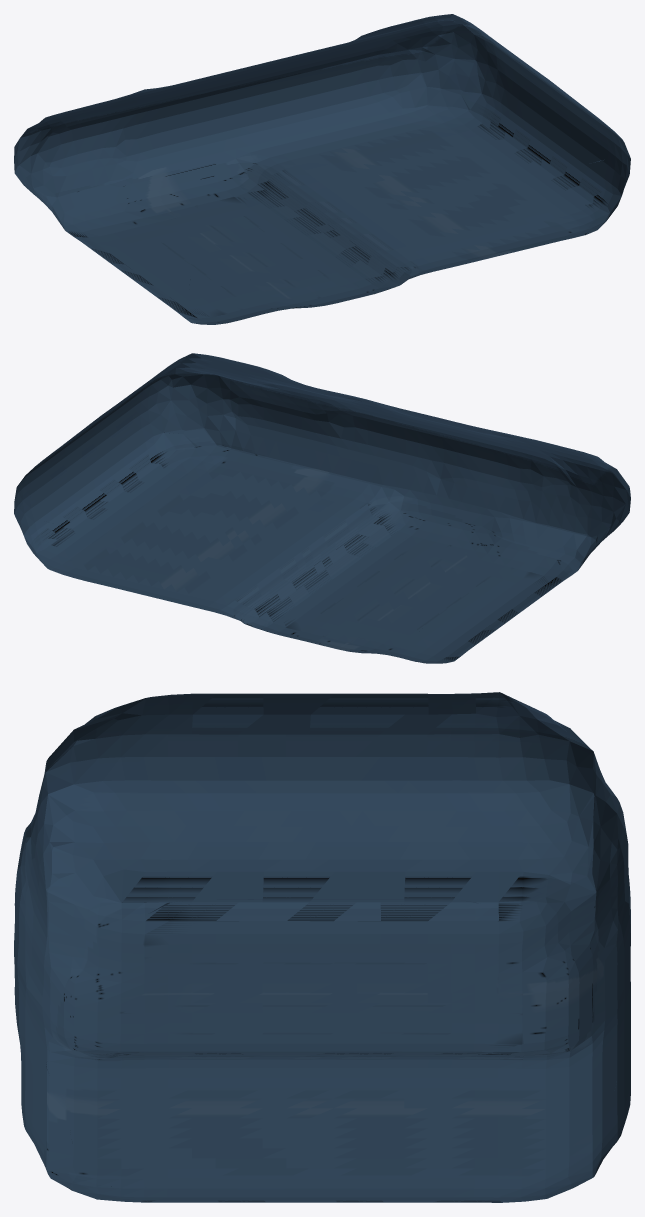
3 renders of one model, top to bottom at view 1: azimuth 30°, elevation 25°; view 2: azimuth 150°, elevation 25°; view 3: azimuth 270°, elevation 25°, orthographic. The views are drawn at different scales.
Visible parts, largest first — view 1: model; view 2: model; view 3: model.
Boxes of the visible parts, <box> form: model: <box>14,14,630,324</box>; model: <box>14,353,630,663</box>; model: <box>14,692,630,1202</box>.
Bounding box in the file's own units: 1 × 0.3045 × 0.699.
1 material, 1 textured.
